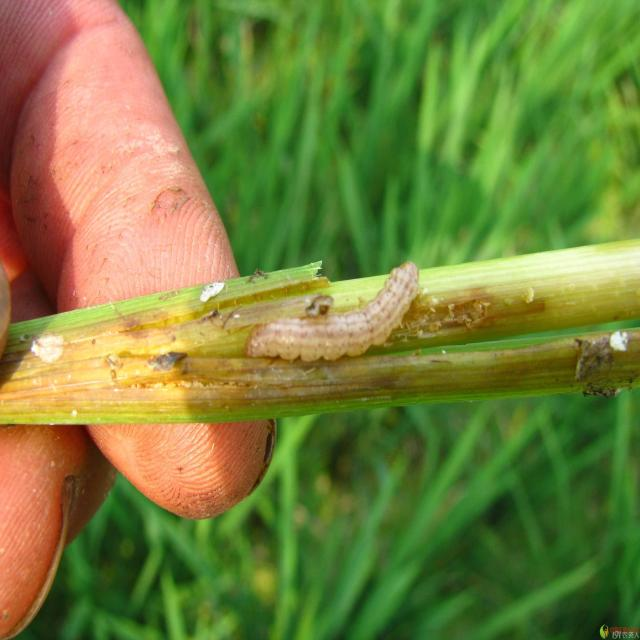yellow-stem-borer-larva: (233, 255, 457, 377)
